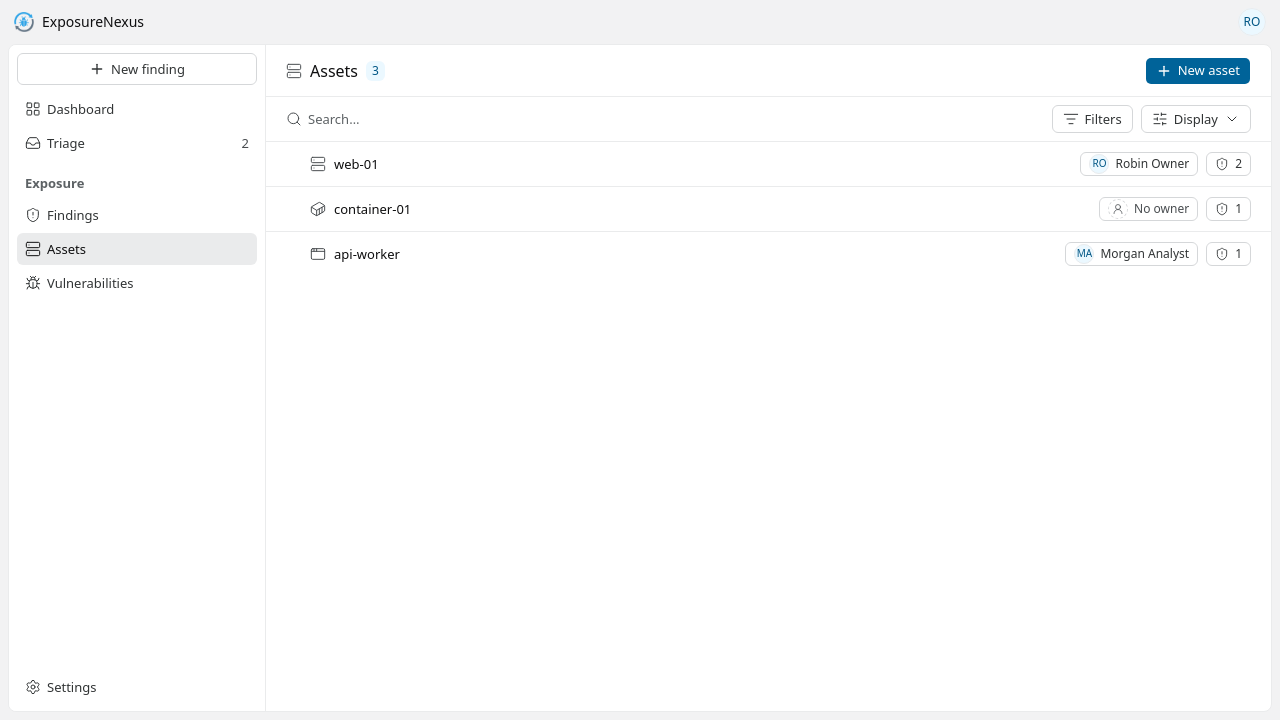
Test: assets list › filters by type through the Filters menu and sends it to the API
The image size is (1280, 720).
Click the button "Filters" at point(1092, 119), box [1052, 105, 1133, 133]
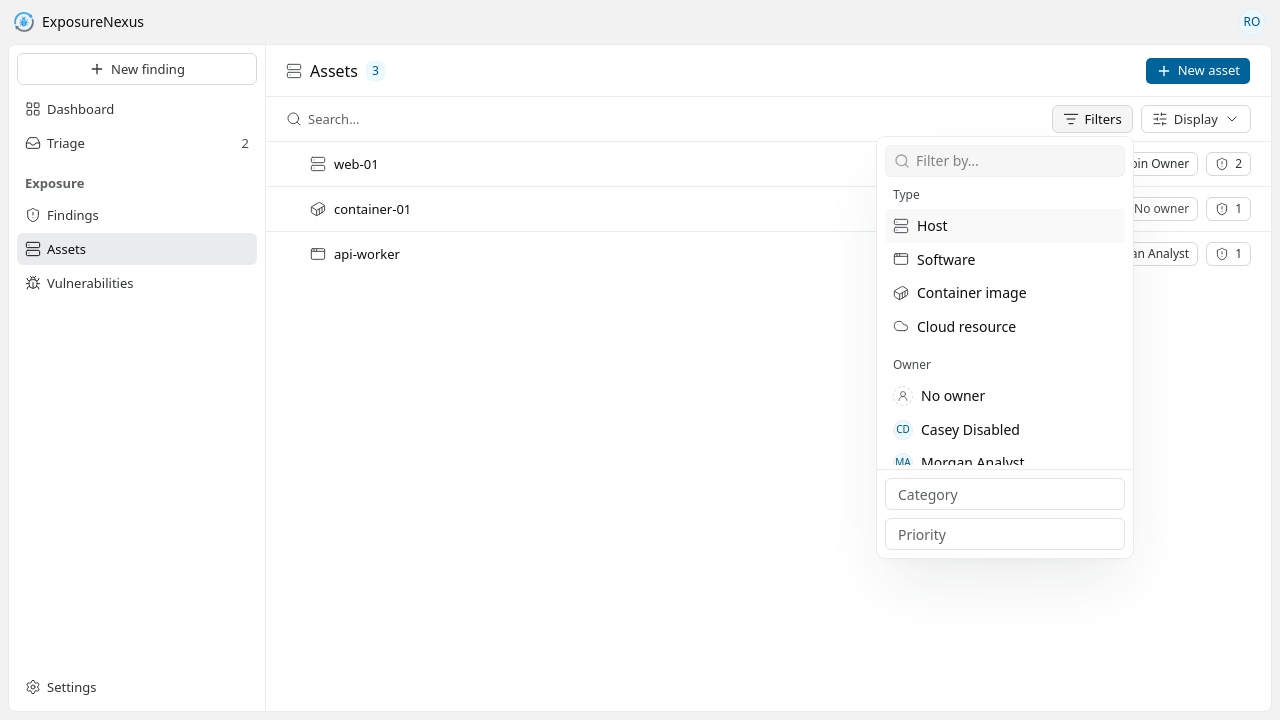
Click the option "Container image" at point(960, 293), box [893, 283, 1026, 302]
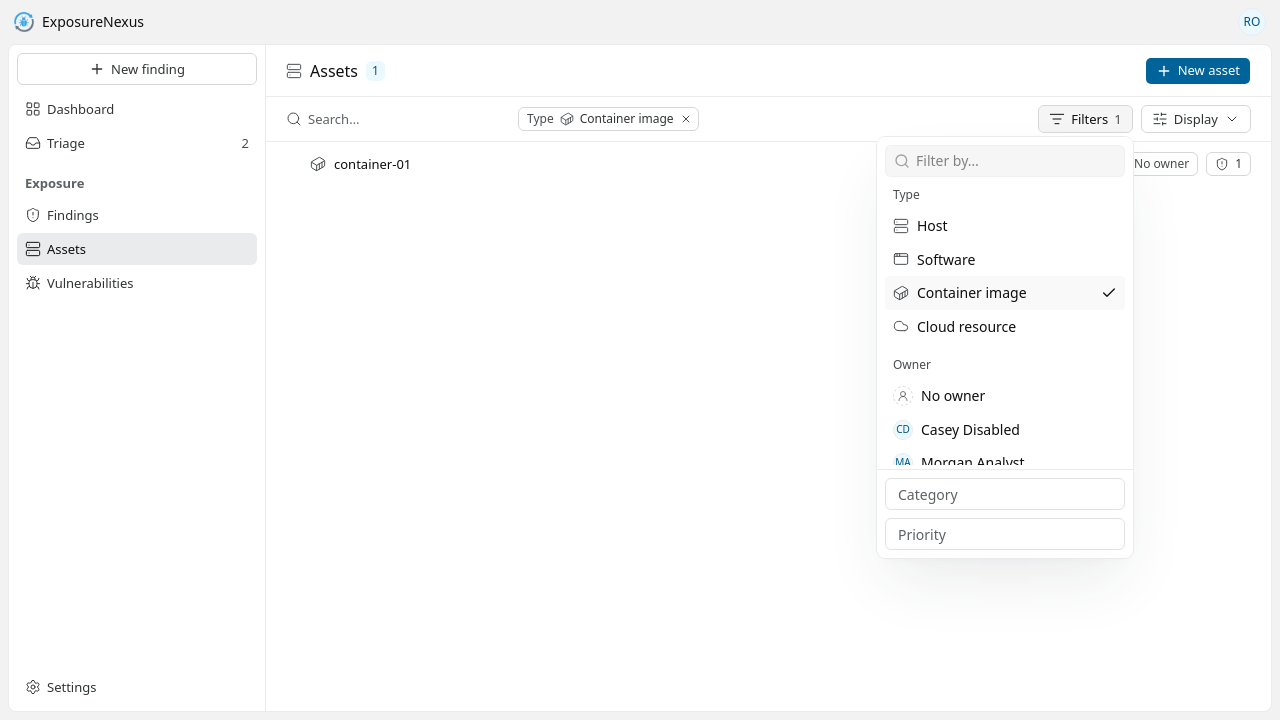
Expected: the list item "container-01" is shown, [334, 155, 411, 173]
Now the link "web-01" is gone
